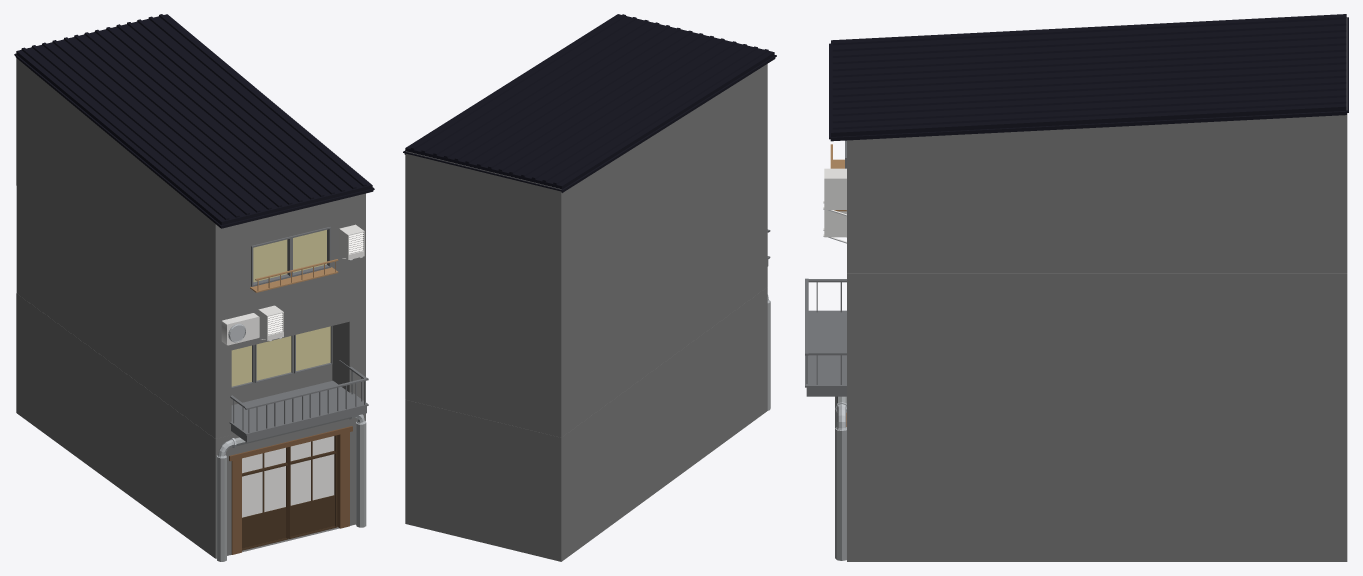
File: SM_building_alley_japan_04.fbx
3 renders of one model, left to right at view 1: azimuth 30°, elevation 25°; view 2: azimuth 150°, elevation 25°; view 3: azimuth 270°, elevation 25°, orthographic. The views are drawn at different scales.
Visible parts, largest first — view 1: Object026; view 2: Object026; view 3: Object026.
Part boxes in pixels (x1,y1,x2,y2): Object026: [14, 14, 374, 561]; Object026: [403, 14, 776, 561]; Object026: [805, 14, 1348, 561].
Bounding box in the file's own units: 192 × 467 × 434.
